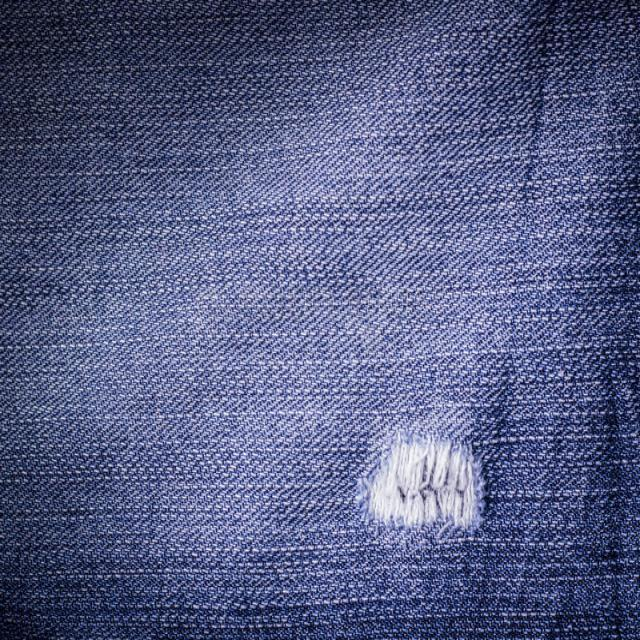Hole: (363, 434, 485, 528)
